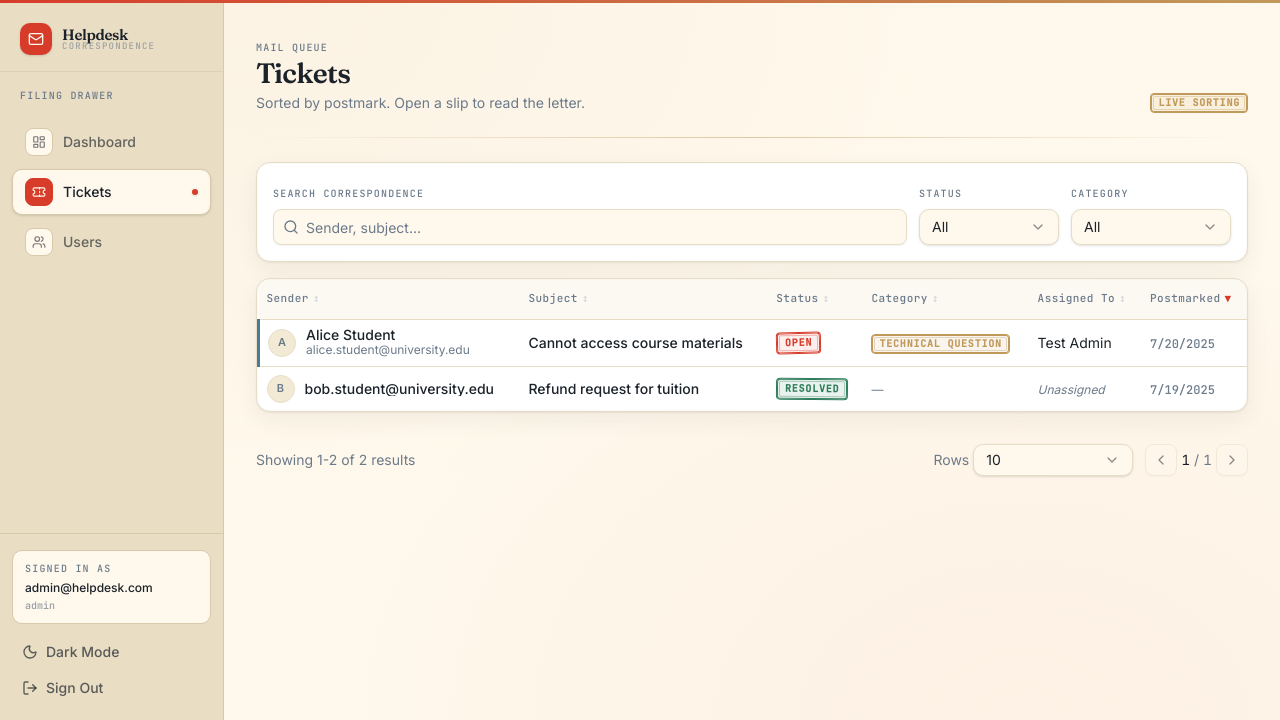
Scenario: TicketsTable filtering › shows Clear button when a filter is active
This screenshot has width=1280, height=720.
Click the dropdown named "Status".
click(989, 227)  # box [919,209,1059,245]
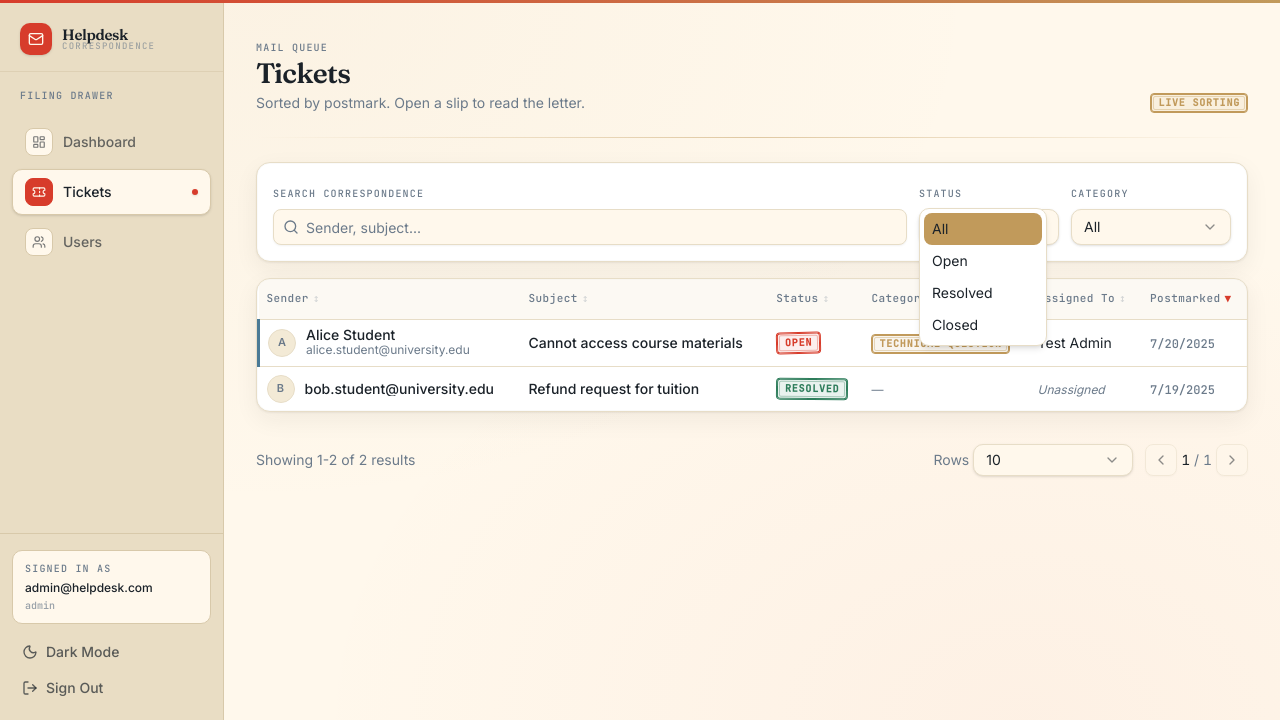
Result: the option "Open" is shown
Click the option "Open".
click(950, 260)  # box [932,252,968,269]
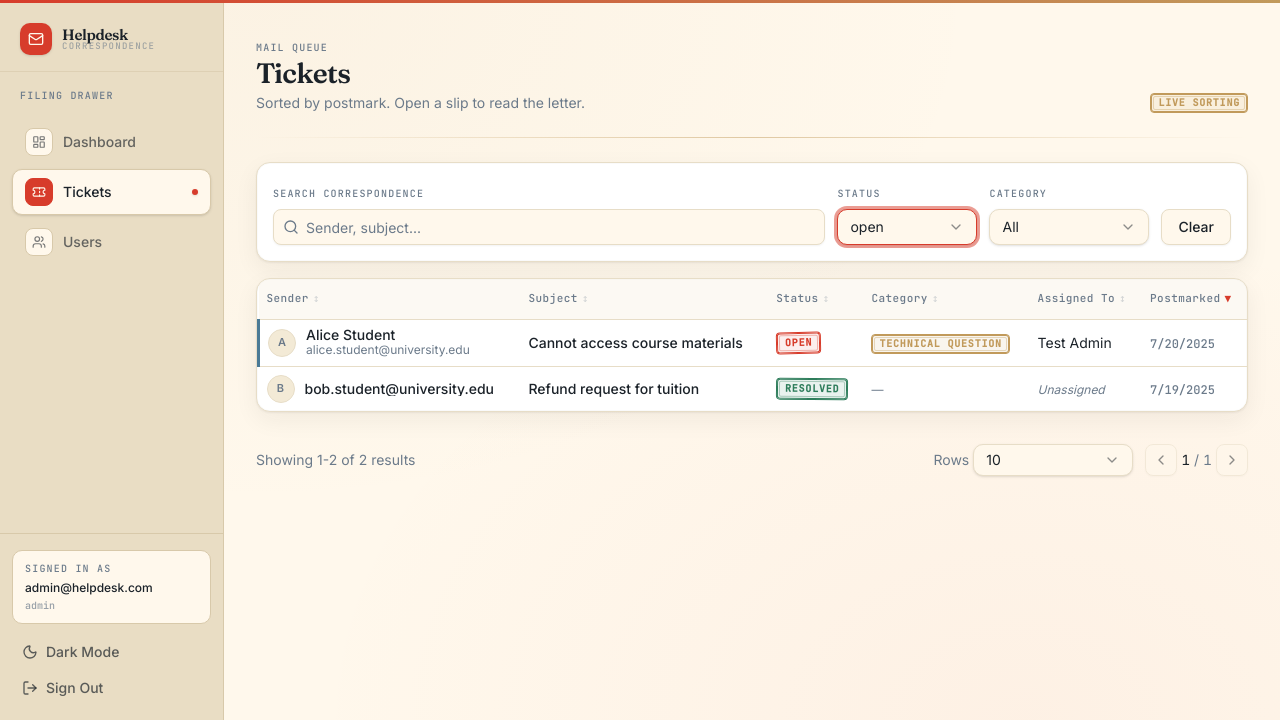
Result: the button "Clear" is shown at [1162,209,1231,245]
